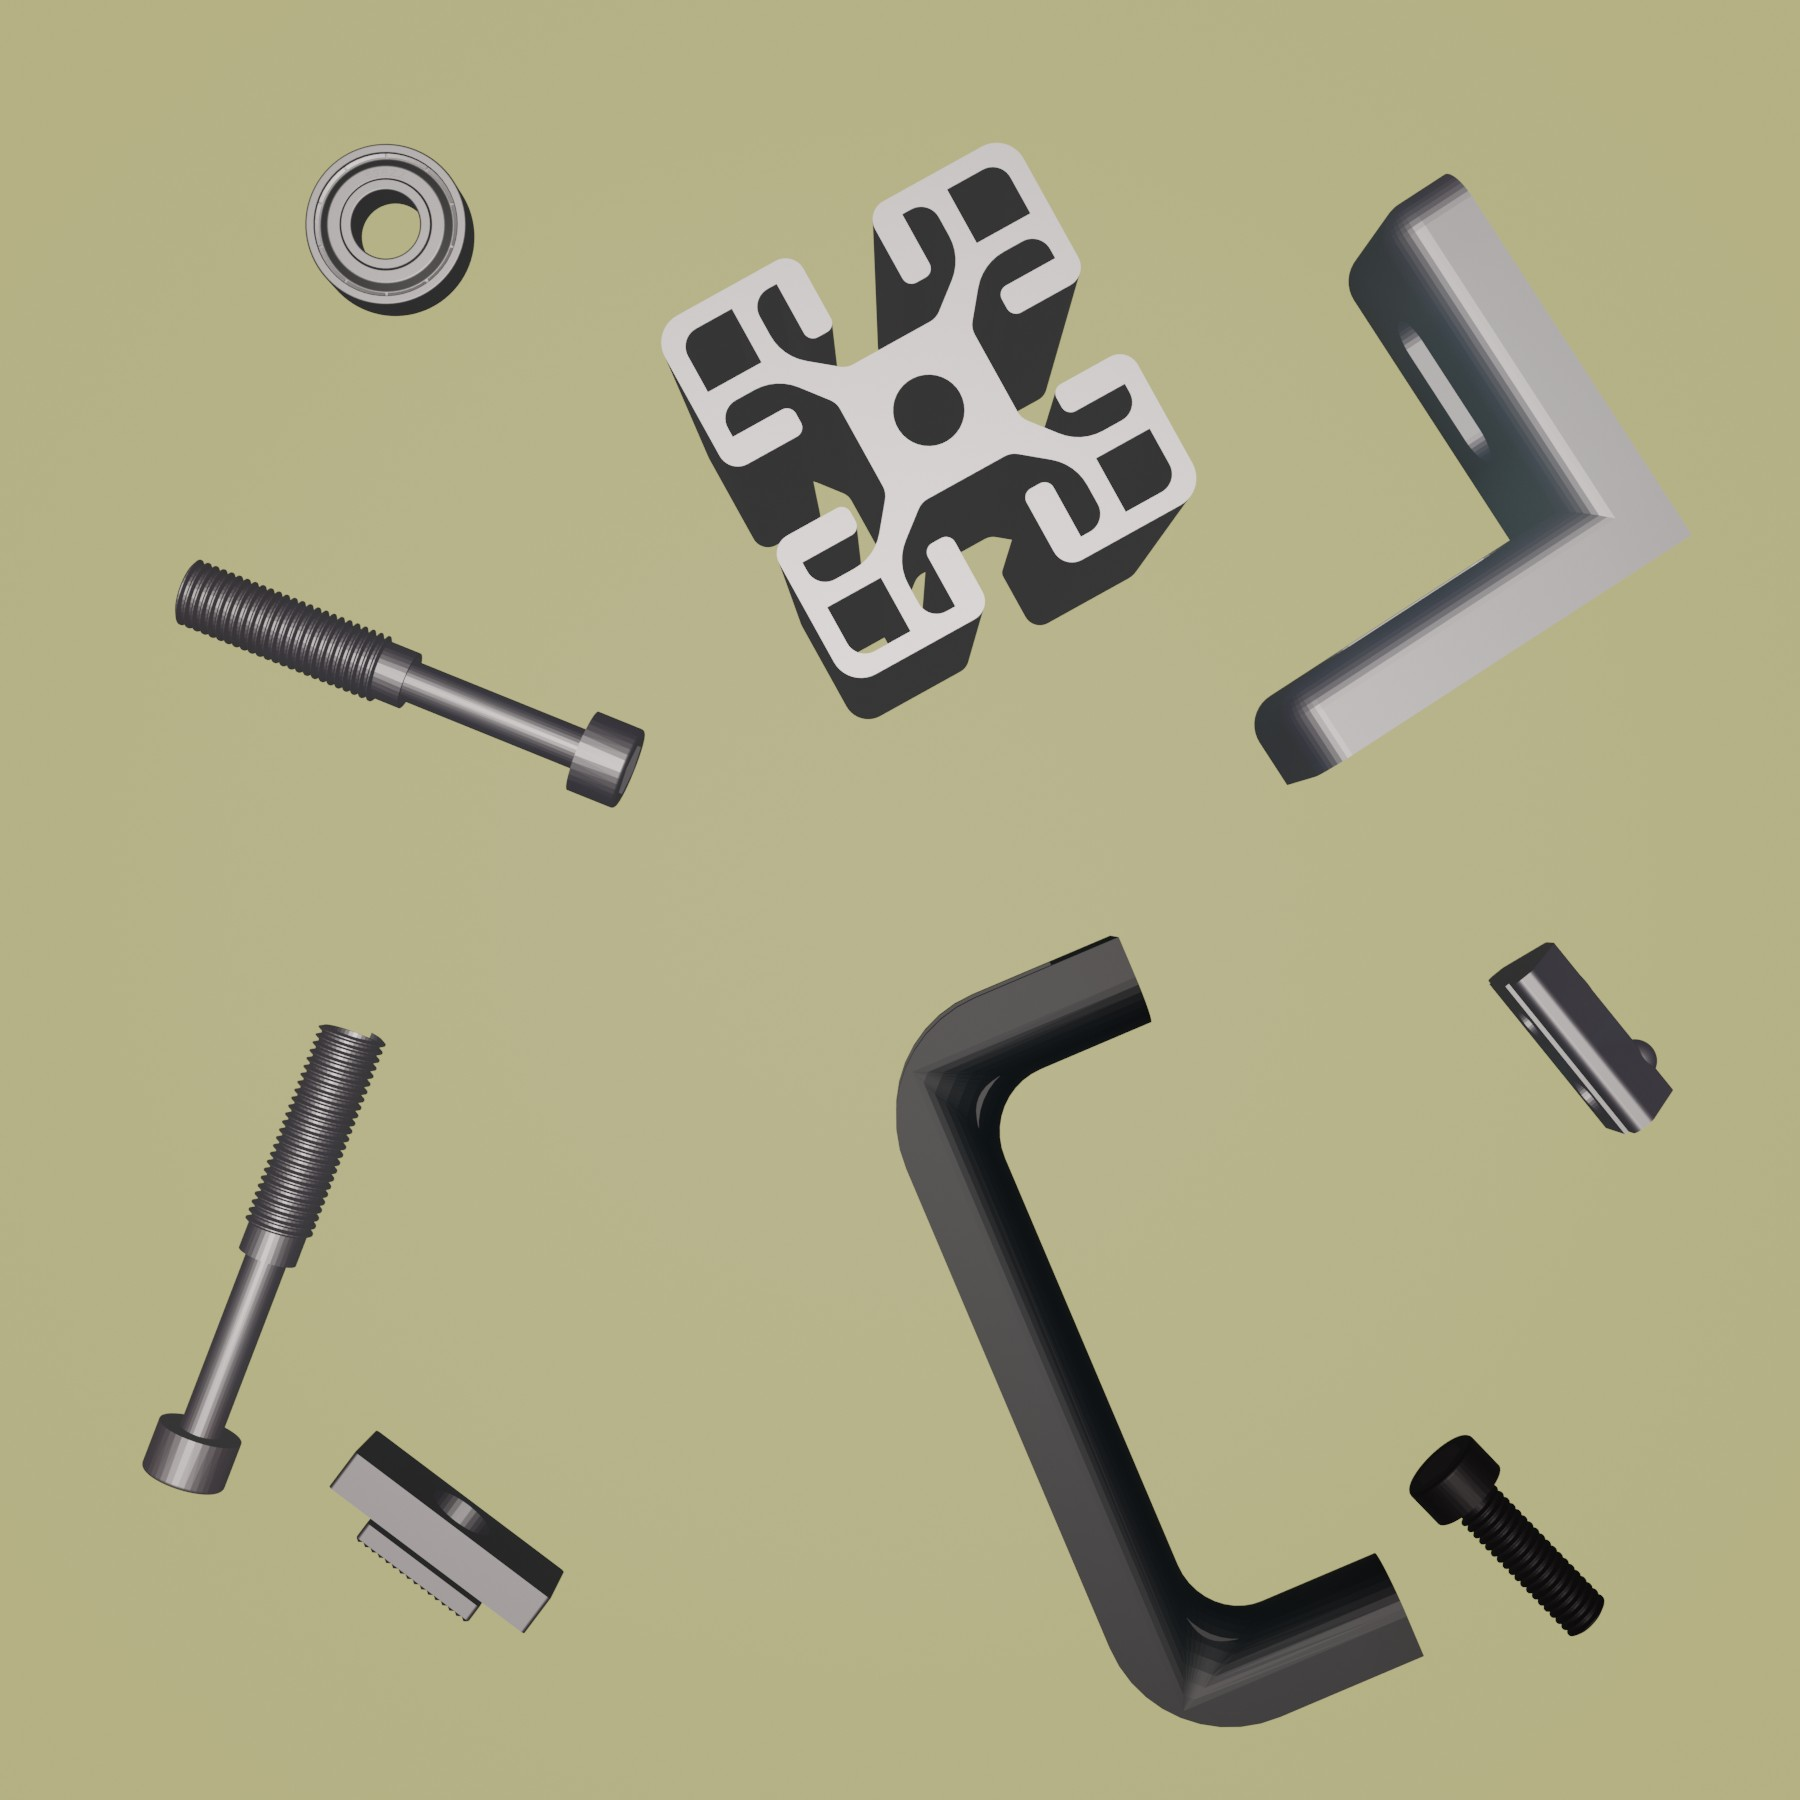Aluminium Extension: (658, 138, 1198, 722)
Ball Bearing: (302, 138, 478, 318)
Multiwinkel: (1253, 170, 1686, 788)
Pull Handle: (892, 931, 1427, 1731)
Shoulder Socket Head Cap Screw: (171, 559, 648, 811), (140, 1019, 389, 1497)
Socket Head Cap Screw: (1406, 1431, 1605, 1638)
T Nut Square: (325, 1427, 565, 1637)
T Spring Nut: (1485, 938, 1675, 1136)
